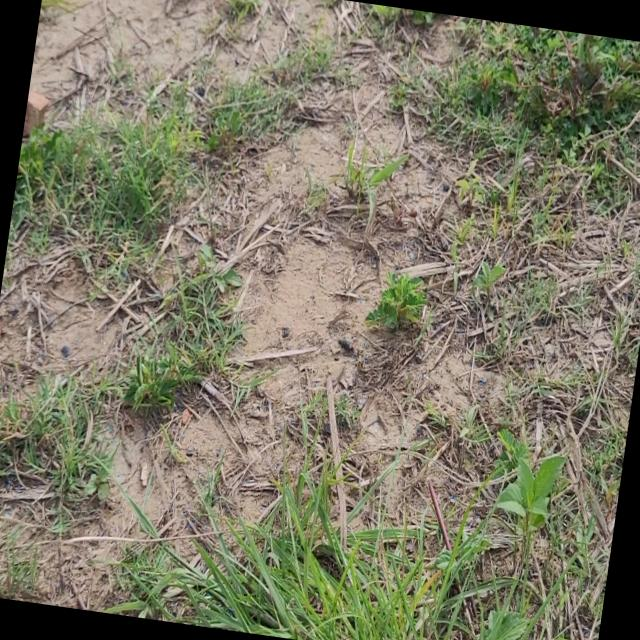grass: (134, 459, 575, 640), (0, 271, 242, 533), (417, 17, 640, 164), (11, 109, 203, 271)
white-sand: (0, 0, 640, 536)
